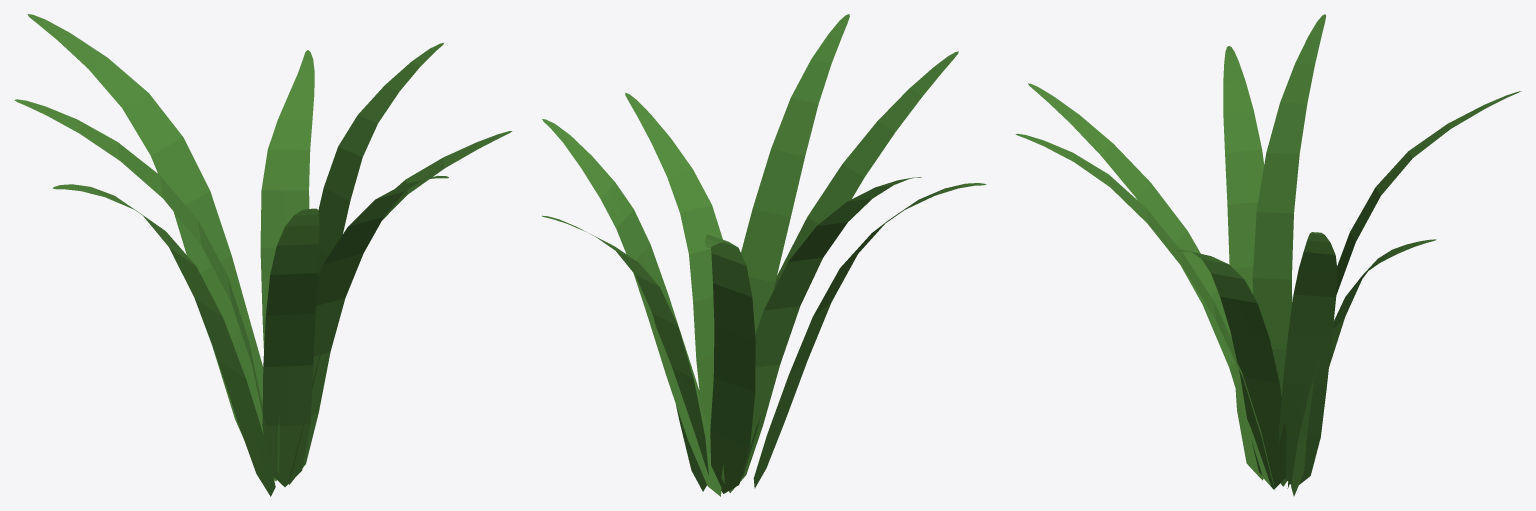
Rendered from Çim.fbx.
3 renders of one model, left to right at view 1: azimuth 30°, elevation 25°; view 2: azimuth 150°, elevation 25°; view 3: azimuth 270°, elevation 25°, orthographic. The views are drawn at different scales.
Visible parts, largest first — view 1: Plane.004; view 2: Plane.004; view 3: Plane.004.
Boxes of the visible parts, x1,y1,x2,y2 form: Plane.004: (14,14,512,496); Plane.004: (542,14,986,496); Plane.004: (1015,14,1521,496).
Bounding box in the file's own units: 15.55 × 14.28 × 17.62.
